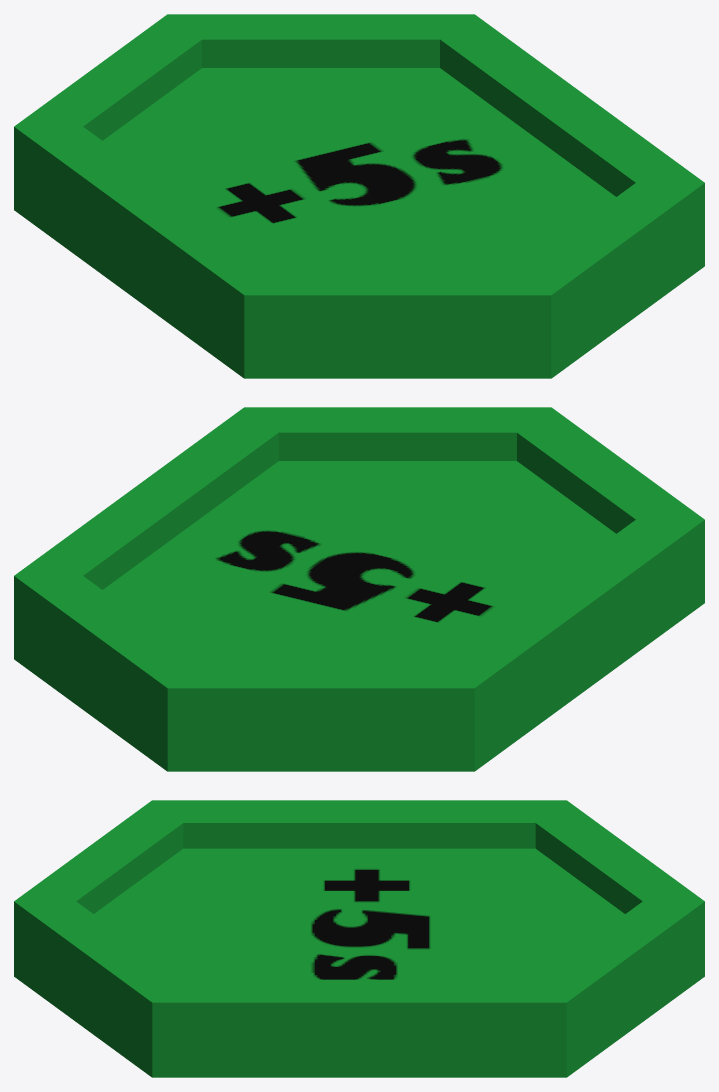
File: time_piece_5s.fbx
The picture shows the model from 3 angles, top to bottom: view 1: azimuth 30°, elevation 25°; view 2: azimuth 150°, elevation 25°; view 3: azimuth 270°, elevation 25°; orthographic projection. The views are drawn at different scales.
Parts seen in each view (by area): view 1: Cylinder; view 2: Cylinder; view 3: Cylinder.
Part boxes in pixels (box(x1,y1,x2,y2)): Cylinder: box(14, 14, 704, 378); Cylinder: box(14, 407, 704, 771); Cylinder: box(14, 800, 704, 1077).
Bounding box in the file's own units: 173 × 30 × 250.
